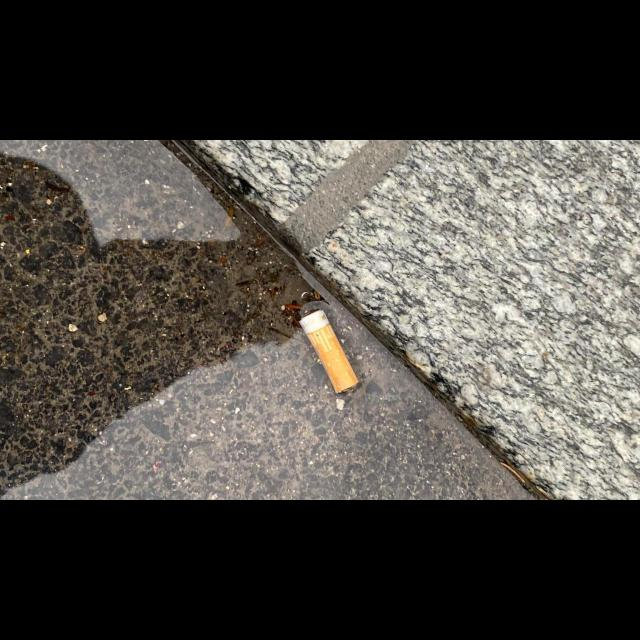cigarette: (297, 308, 359, 394)
